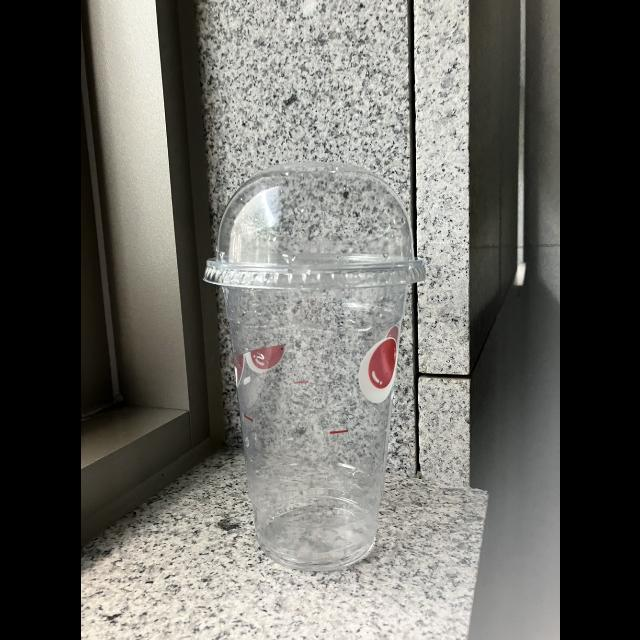plastic_cup: (197, 150, 447, 574)
plastic_cup_lid: (198, 164, 434, 286)
